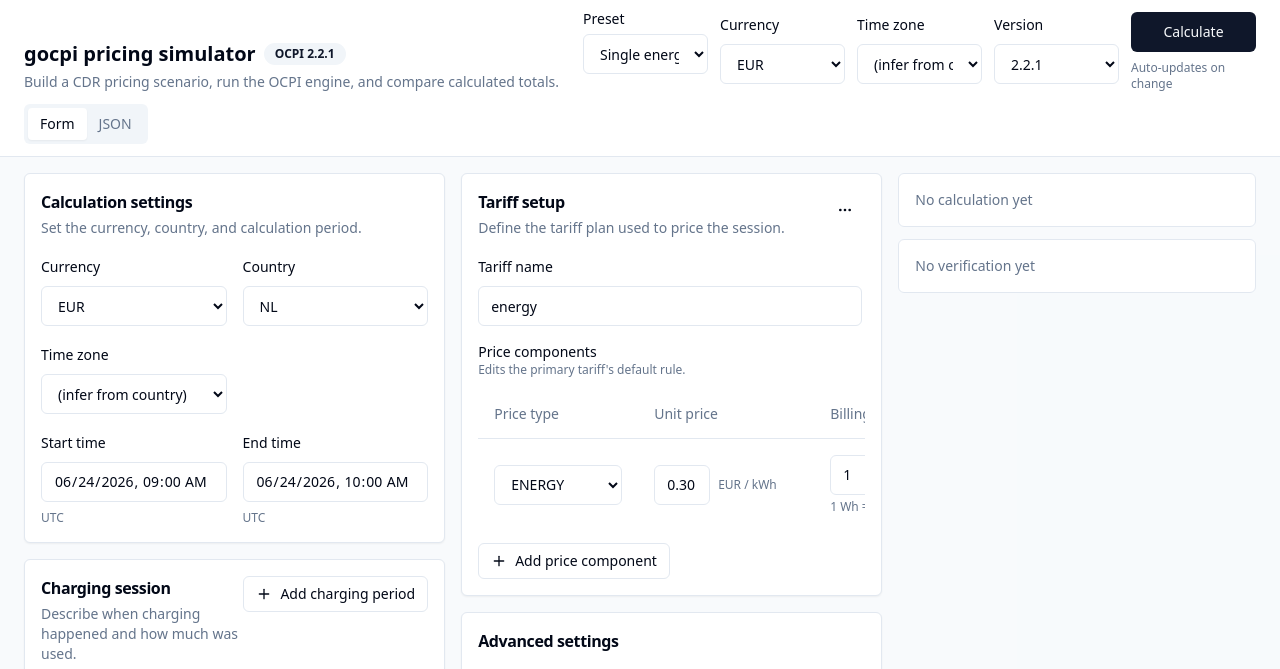
Test: App orchestration › renders preset descriptions and confirms overwriting edited form input
The width and height of the screenshot is (1280, 669).
Select "DE" in the dropdown labelled "Country": {"x": 335, "y": 306} [243,286,428,326]
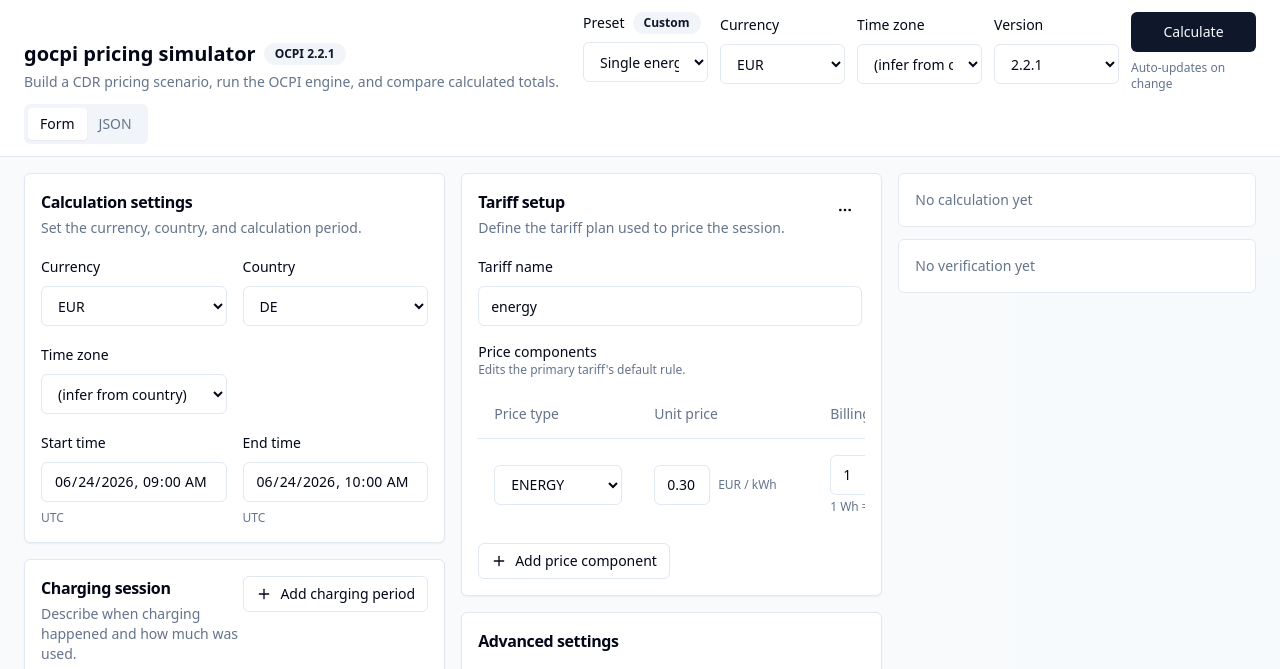
Check: the text "Custom" is shown, box [633,12,700,34]
Select "Time of day - A tariff with a restricted daytime rule plus a fallback price comp" in the dropdown labelled "Preset": {"x": 646, "y": 62} [583,42,708,82]
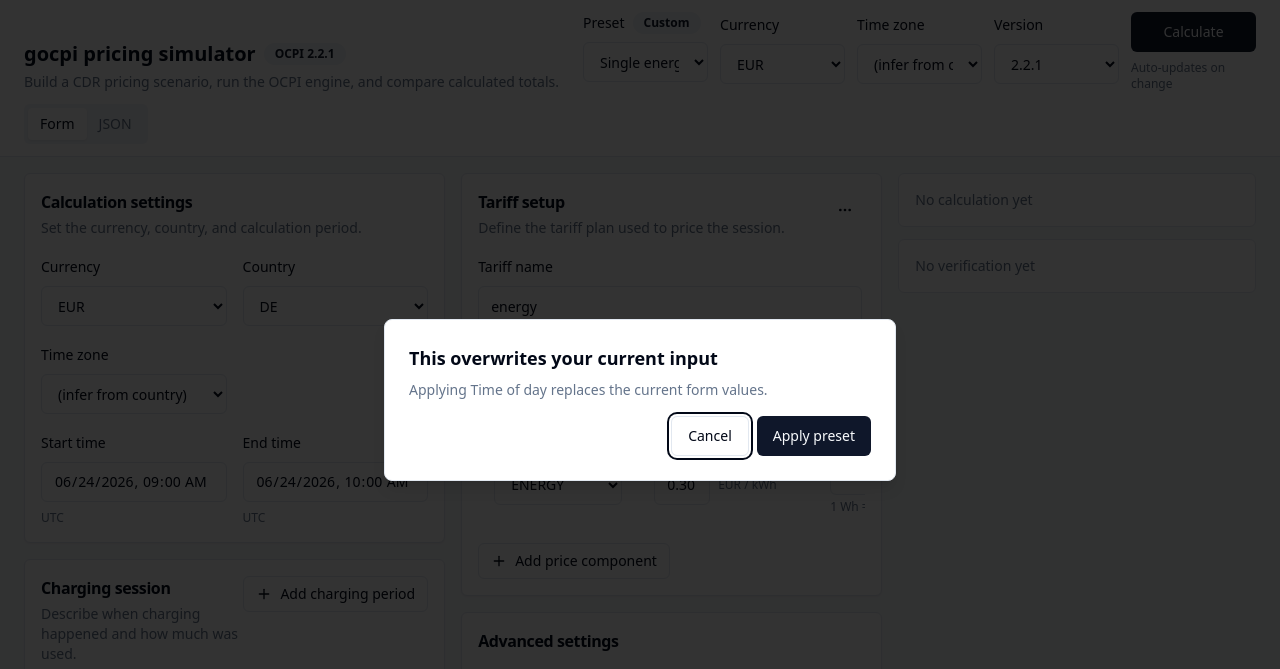
Check: the dialog shows "This overwrites your current input", box [409,346,718,370]
Click the button "Apply preset": {"x": 814, "y": 436} [757,416,871,456]
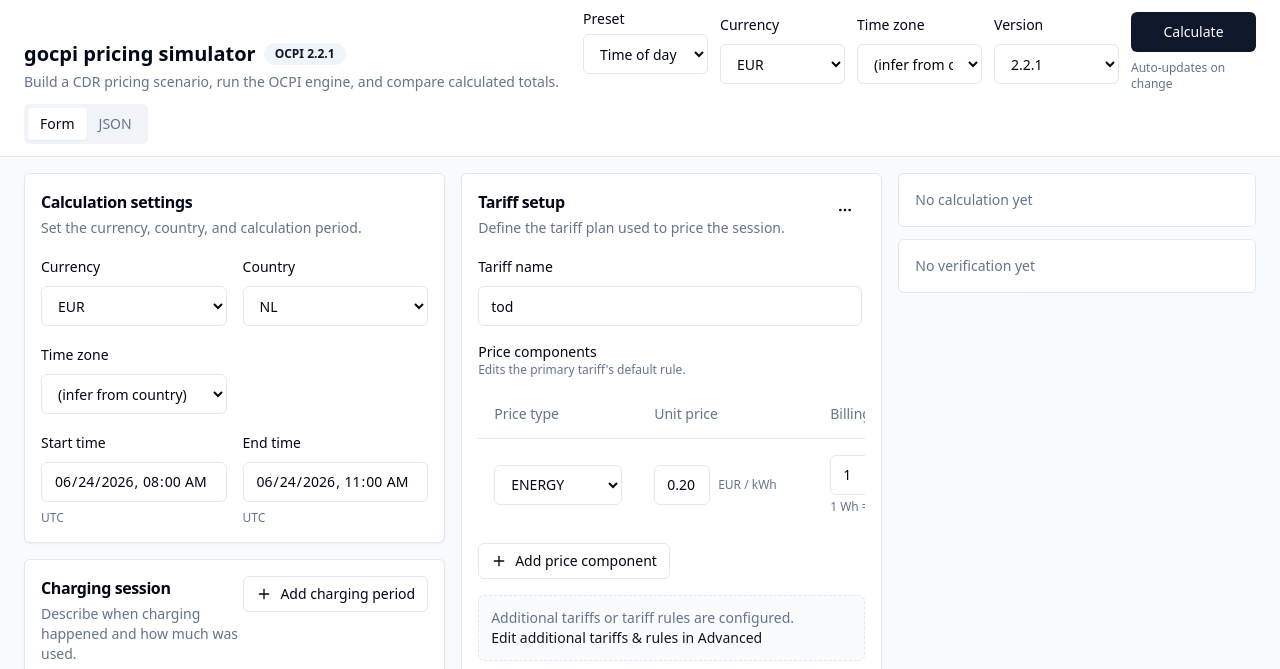
Check: the text "Custom" is gone
Check: the field labelled "Tariff name" holds "tod", box [478,286,862,326]
